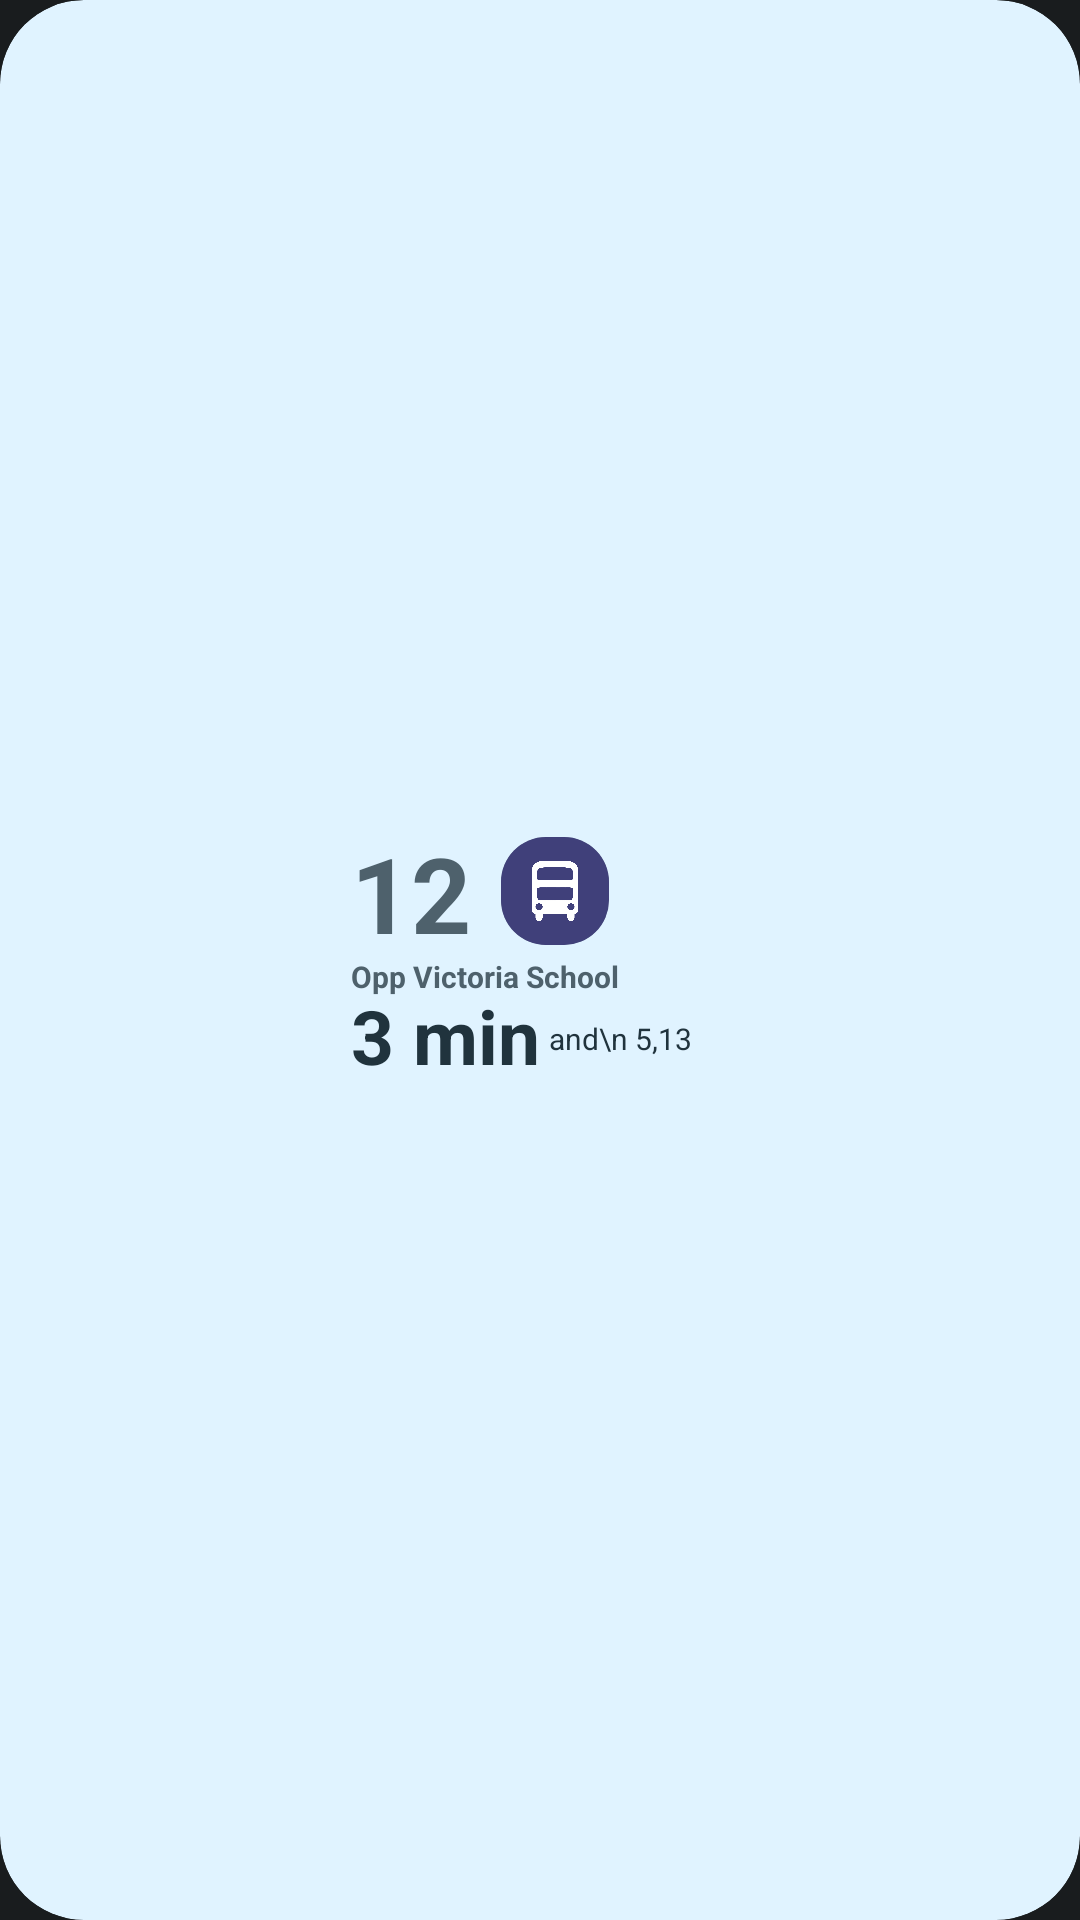

Icon bounding boxes for this 1080 × 1920 phone screenshot, format (x1, y1, x2, y2):
double: (501, 837, 609, 945)
